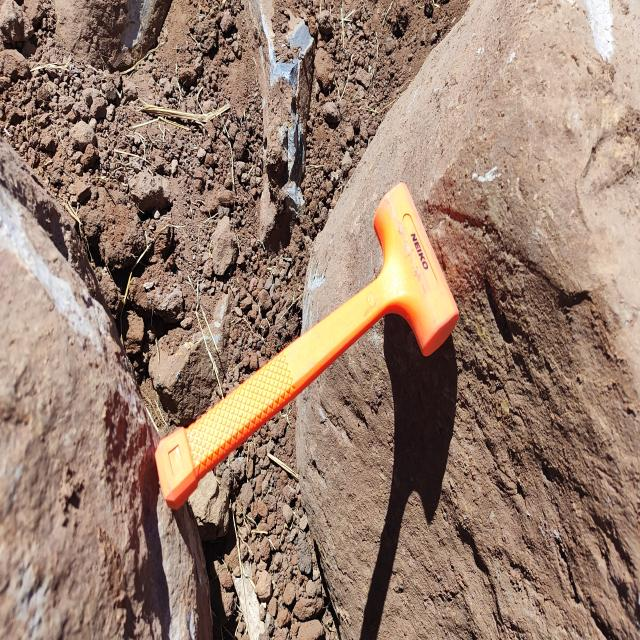Orange_hammer: (153, 180, 460, 511)
